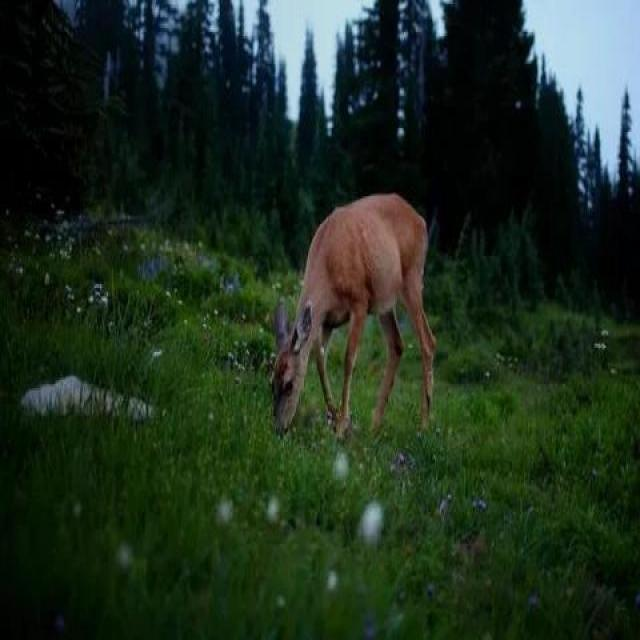deer: (186, 143, 476, 521)
